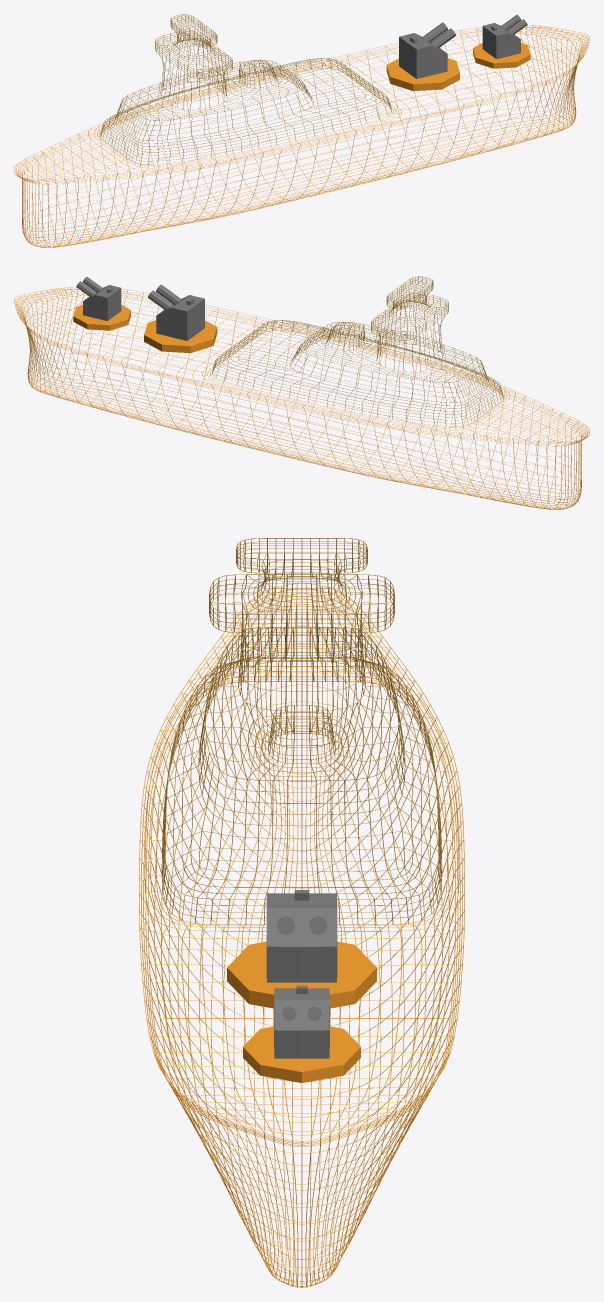
Rendered from Ship_Yamato_Wireframe.obj.
3 renders of one model, top to bottom at view 1: azimuth 30°, elevation 25°; view 2: azimuth 150°, elevation 25°; view 3: azimuth 270°, elevation 25°, orthographic. The views are drawn at different scales.
Visible parts, largest first — view 1: Yamato_Wireframe; view 2: Yamato_Wireframe; view 3: Yamato_Wireframe.
Part boxes in pixels (x1=…): Yamato_Wireframe: x1=14, y1=14, x2=589, y2=247; Yamato_Wireframe: x1=14, y1=276, x2=589, y2=509; Yamato_Wireframe: x1=139, y1=538, x2=464, y2=1287.
Size of the model in its own units: 5.54 by 1.76 by 1.37.
1 material, 1 textured.
